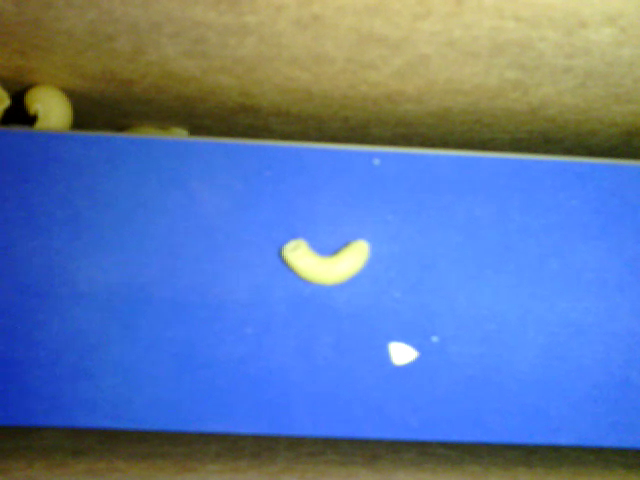elbow: (282, 234, 373, 287)
